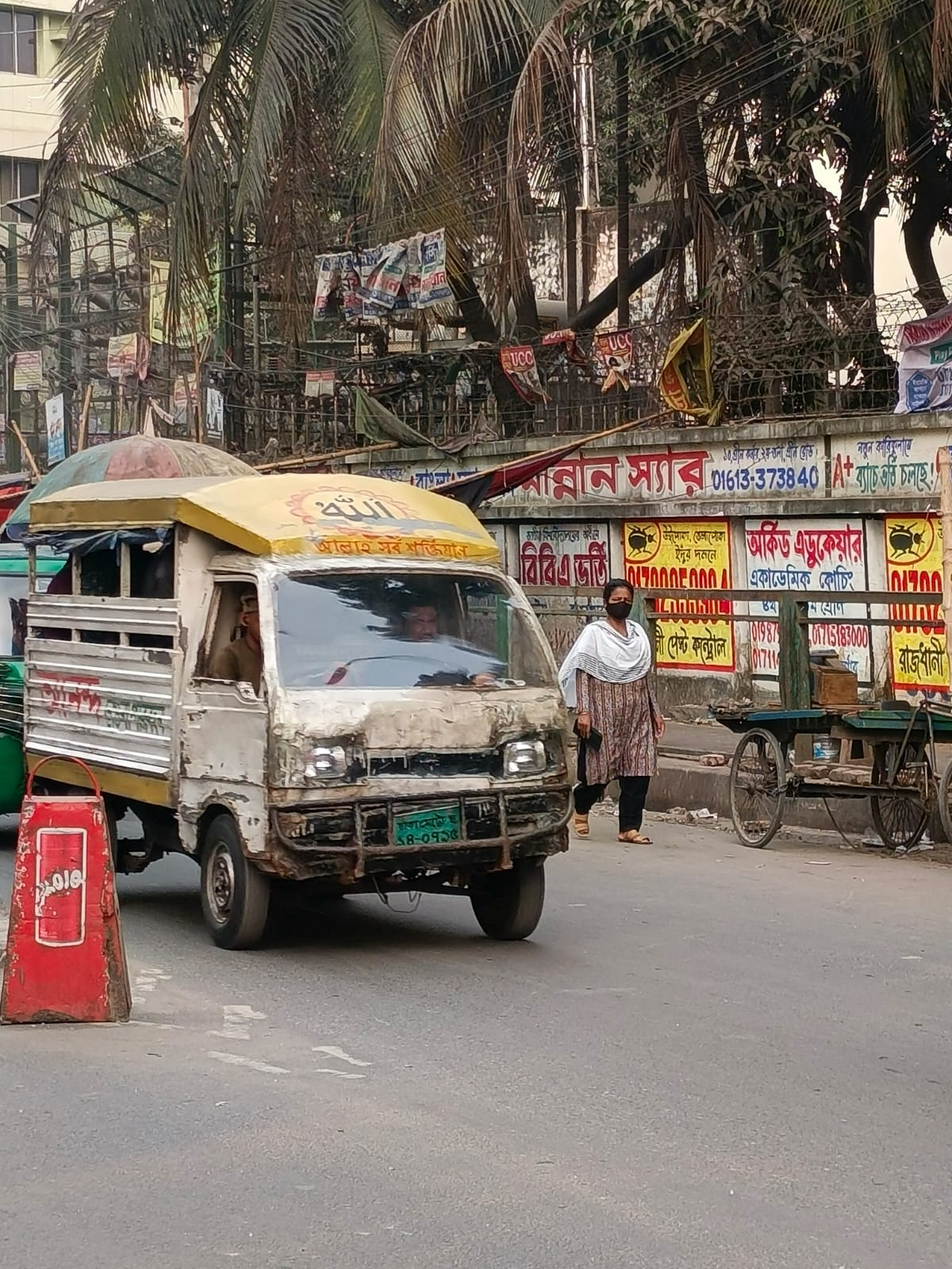Leguna: (12, 465, 587, 957)
